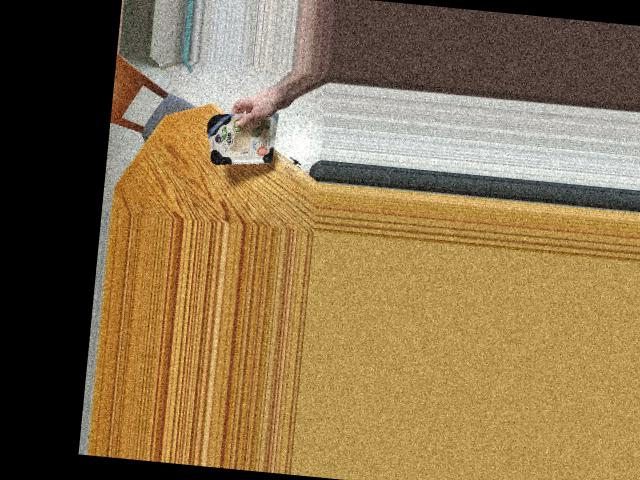cheese: (201, 107, 287, 164)
